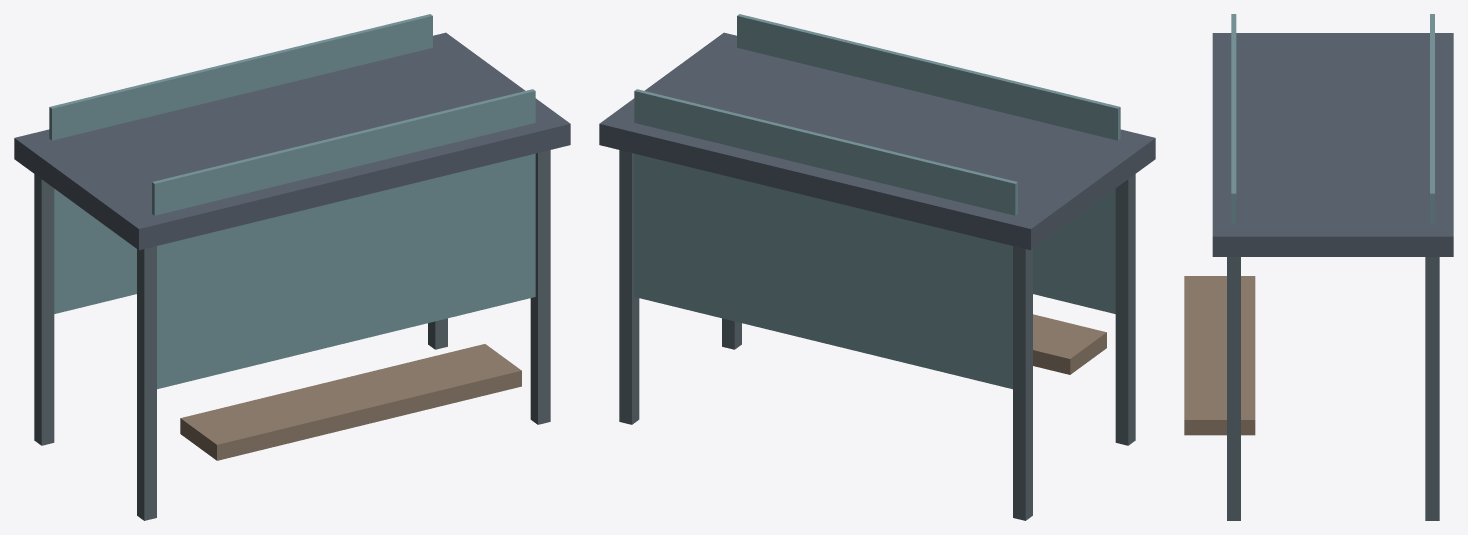
File: bus_shelter.glb
3 renders of one model, left to right at view 1: azimuth 30°, elevation 25°; view 2: azimuth 150°, elevation 25°; view 3: azimuth 270°, elevation 25°, orthographic. The views are drawn at different scales.
Visible parts, largest first — view 1: bus_shelter; view 2: bus_shelter; view 3: bus_shelter.
Boxes of the visible parts, x1,y1,x2,y2 form: bus_shelter: [14, 14, 570, 520]; bus_shelter: [599, 14, 1155, 520]; bus_shelter: [1184, 14, 1453, 520].
Size of the model in its own units: 3.4 by 2.5 by 1.9.
